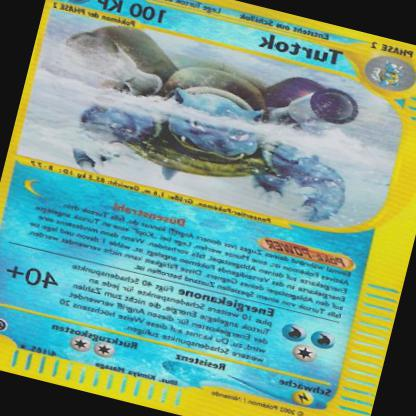Blastoise: (56, 21, 375, 231)
